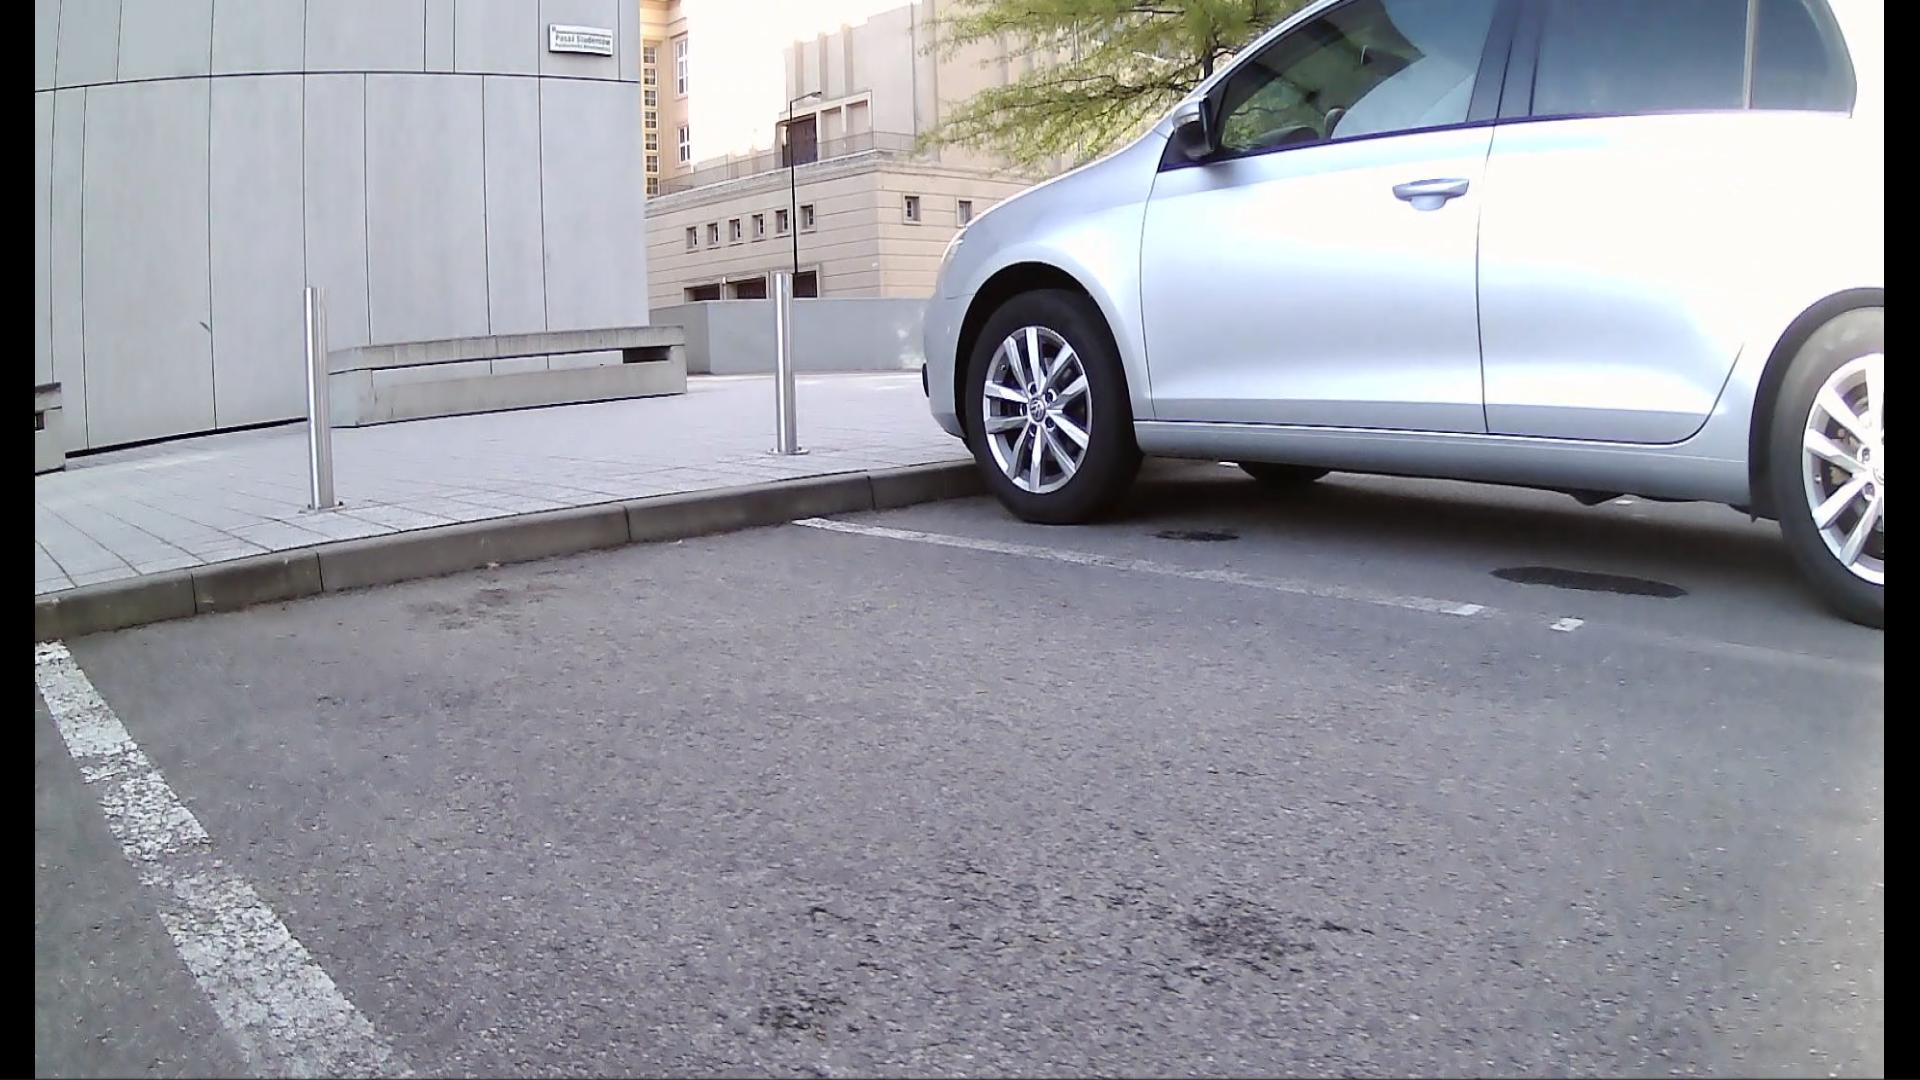car: (909, 0, 1884, 651)
